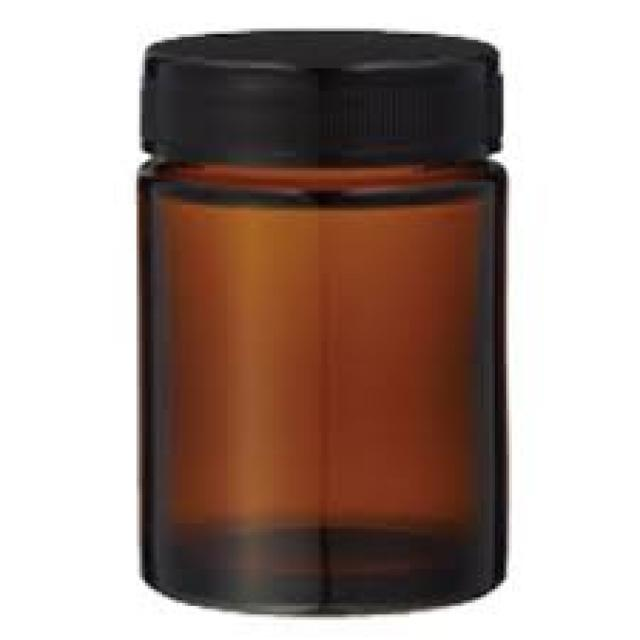glass: (139, 165, 501, 609)
